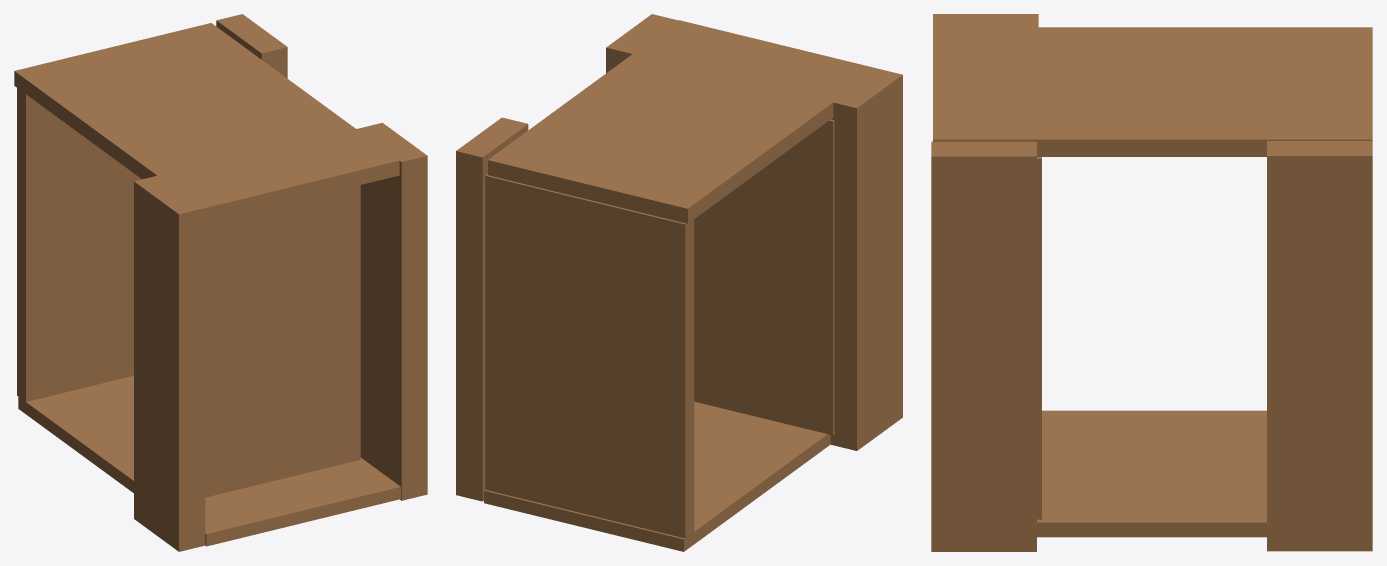
File: tinker.obj
3 renders of one model, left to right at view 1: azimuth 30°, elevation 25°; view 2: azimuth 150°, elevation 25°; view 3: azimuth 270°, elevation 25°, orthographic. The views are drawn at different scales.
Parts seen in each view (by area): view 1: obj_0; view 2: obj_0; view 3: obj_0.
Boxes of the visible parts, <box> form: obj_0: <box>14,14,427,551</box>; obj_0: <box>456,14,902,551</box>; obj_0: <box>931,14,1372,551</box>.
Bounding box in the file's own units: 193 × 250 × 251.
